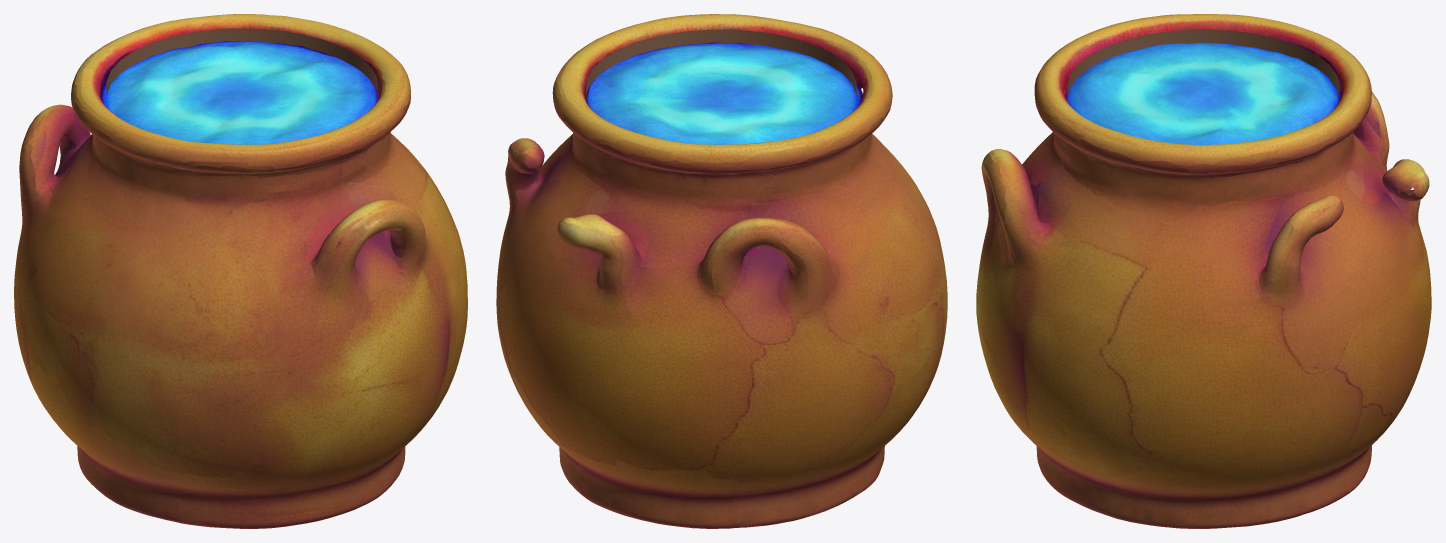
The model's file is water-jar.glb.
3 views of the same model, side by side, from view 1: azimuth 30°, elevation 25°; view 2: azimuth 150°, elevation 25°; view 3: azimuth 270°, elevation 25° (orthographic).
Parts seen in each view (by area): view 1: jar.empty, jar.full, jar.empty.inside; view 2: jar.empty, jar.full, jar.empty.inside; view 3: jar.empty, jar.full, jar.empty.inside.
Part boxes in pixels (<box>): jar.empty: <box>14,14,467,528</box>; jar.full: <box>107,41,376,144</box>; jar.empty.inside: <box>106,28,378,99</box>; jar.empty: <box>496,14,947,528</box>; jar.full: <box>587,43,856,144</box>; jar.empty.inside: <box>586,29,856,100</box>; jar.empty: <box>976,14,1431,528</box>; jar.full: <box>1069,43,1338,144</box>; jar.empty.inside: <box>1067,29,1339,98</box>.
Bounding box in the file's own units: 1.69 × 1.58 × 1.69.
2 materials, 1 textured.
